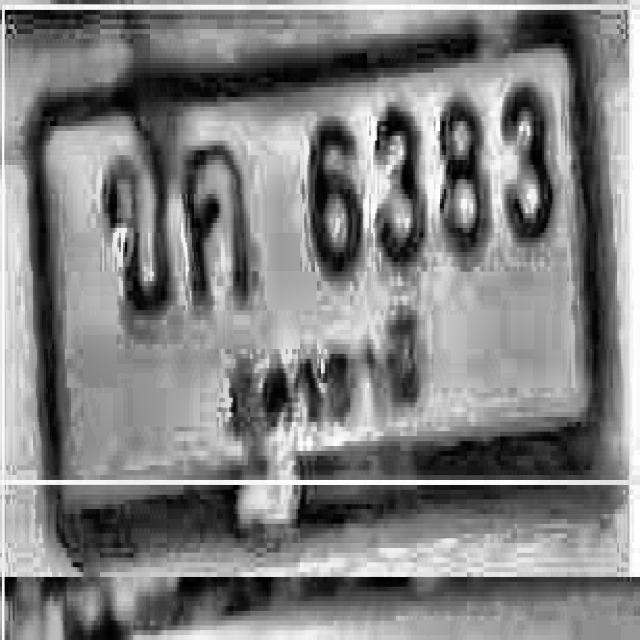license-plate: (22, 39, 628, 565)
